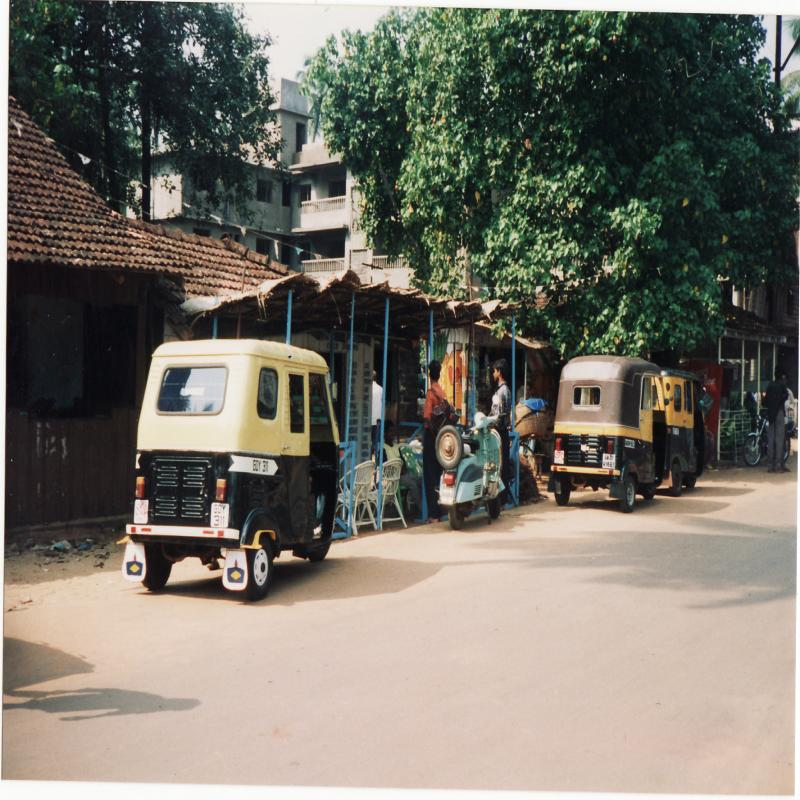auto: (126, 342, 335, 608), (551, 347, 668, 518)
